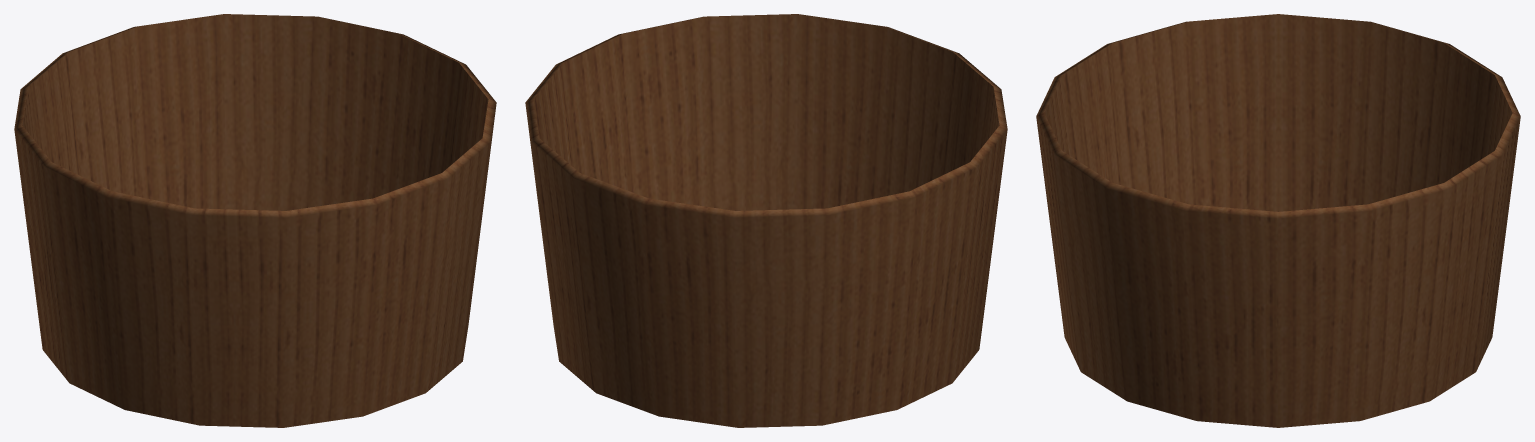
Rendered from ToGo_Jacket_01.fbx.
3 views of the same model, side by side, from view 1: azimuth 30°, elevation 25°; view 2: azimuth 150°, elevation 25°; view 3: azimuth 270°, elevation 25° (orthographic).
Visible parts, largest first — view 1: ToGo_Jacket_01; view 2: ToGo_Jacket_01; view 3: ToGo_Jacket_01.
Part boxes in pixels (x1=…): ToGo_Jacket_01: x1=14, y1=14, x2=496, y2=427; ToGo_Jacket_01: x1=525, y1=14, x2=1007, y2=427; ToGo_Jacket_01: x1=1036, y1=14, x2=1520, y2=427.
Bounding box in the file's own units: 47.21 × 24.43 × 47.21.
